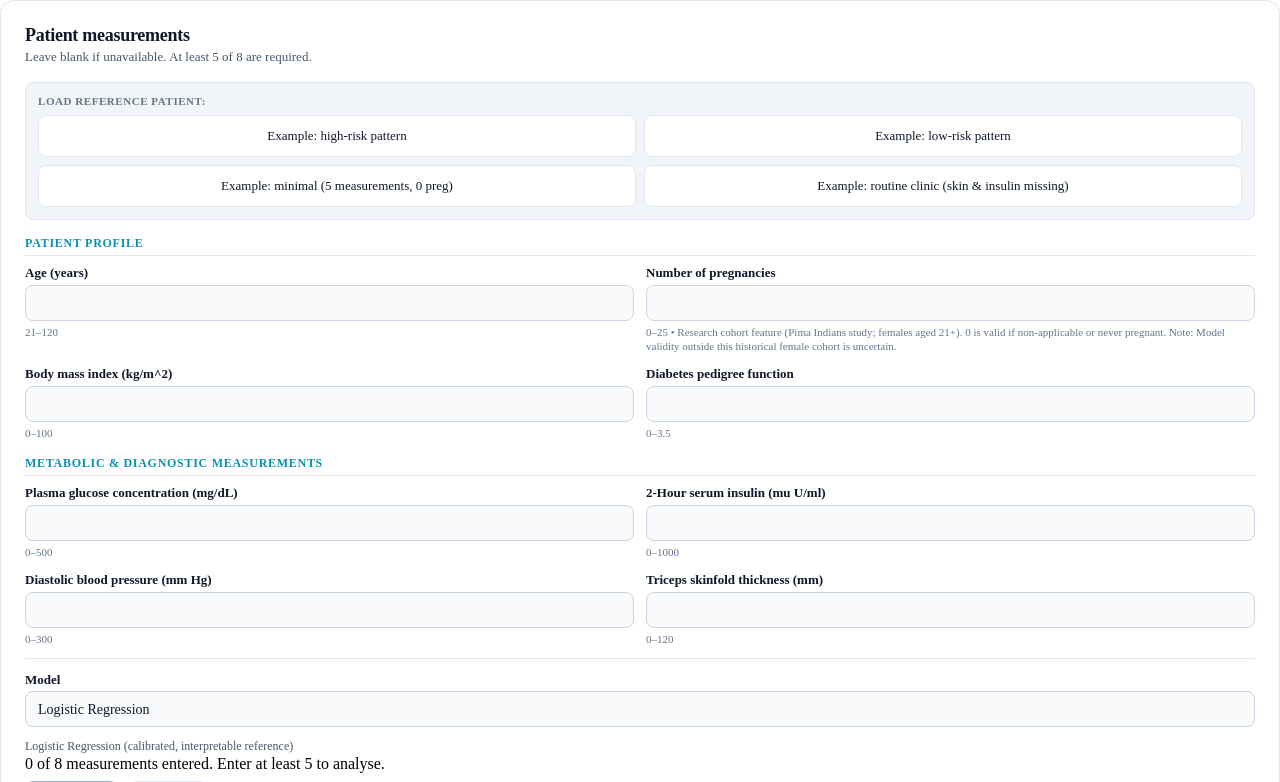
Scenario: PatientForm › fills the form from an example and empties it again with Clear
The width and height of the screenshot is (1280, 782).
Click the button "Example: high-risk pattern" at x=337, y=136, box [38,115,636,157]
(page scrolled)
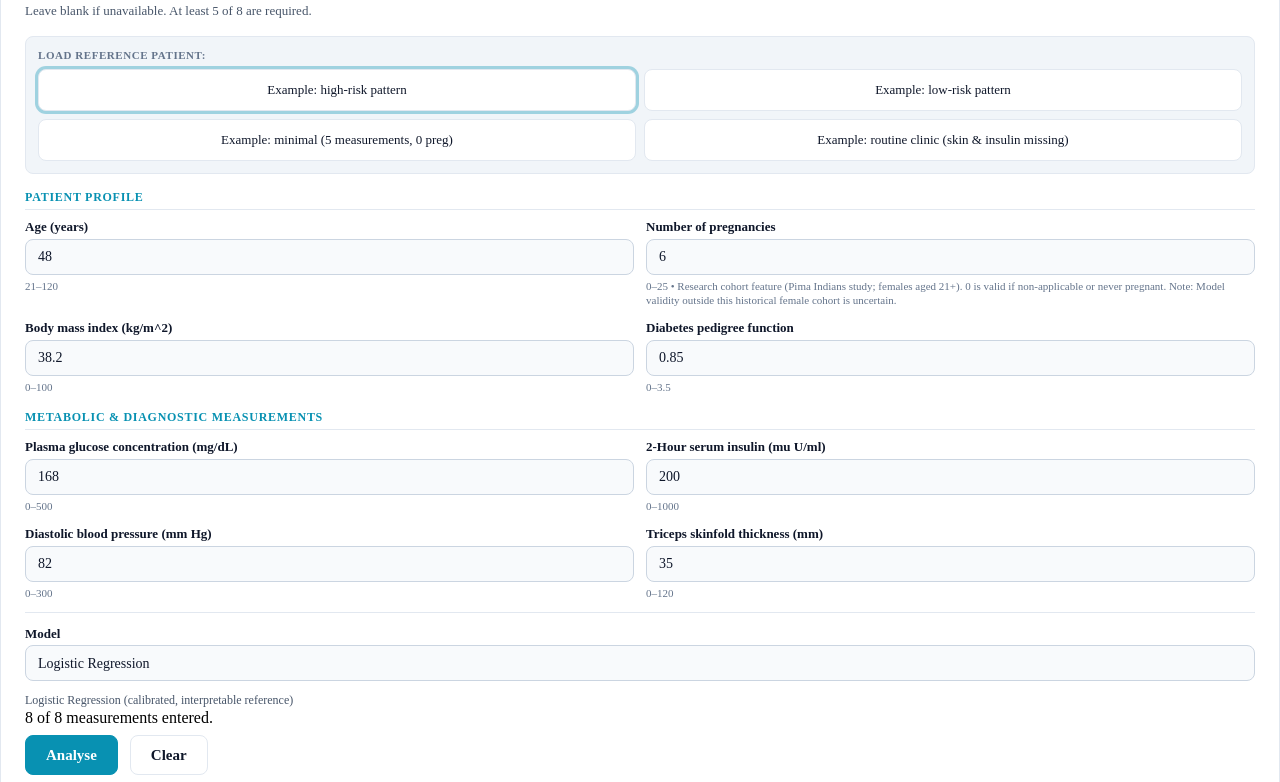
Now the field labelled "Number of pregnancies" holds "6", box [646,239,1255,275]
Now the field labelled "Plasma glucose concentration (mg/dL)" holds "168", box [25,459,634,495]
Now the field labelled "Age (years)" holds "48", box [25,239,634,275]
Click the button "Clear" at x=169, y=755, box [130,735,208,775]
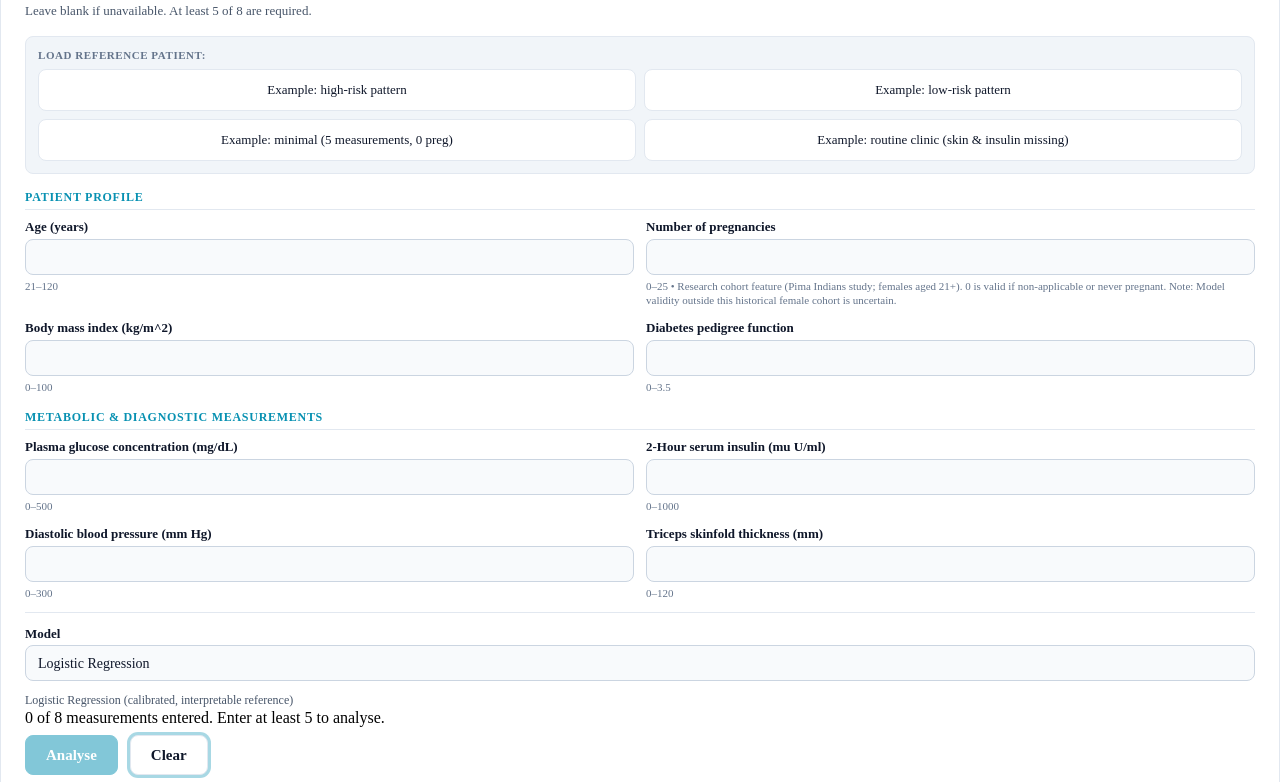
Now the field labelled "Number of pregnancies" is empty, box [646,239,1255,275]
Now the message shows "0 of 8 measurements entered", box [25,709,385,726]
